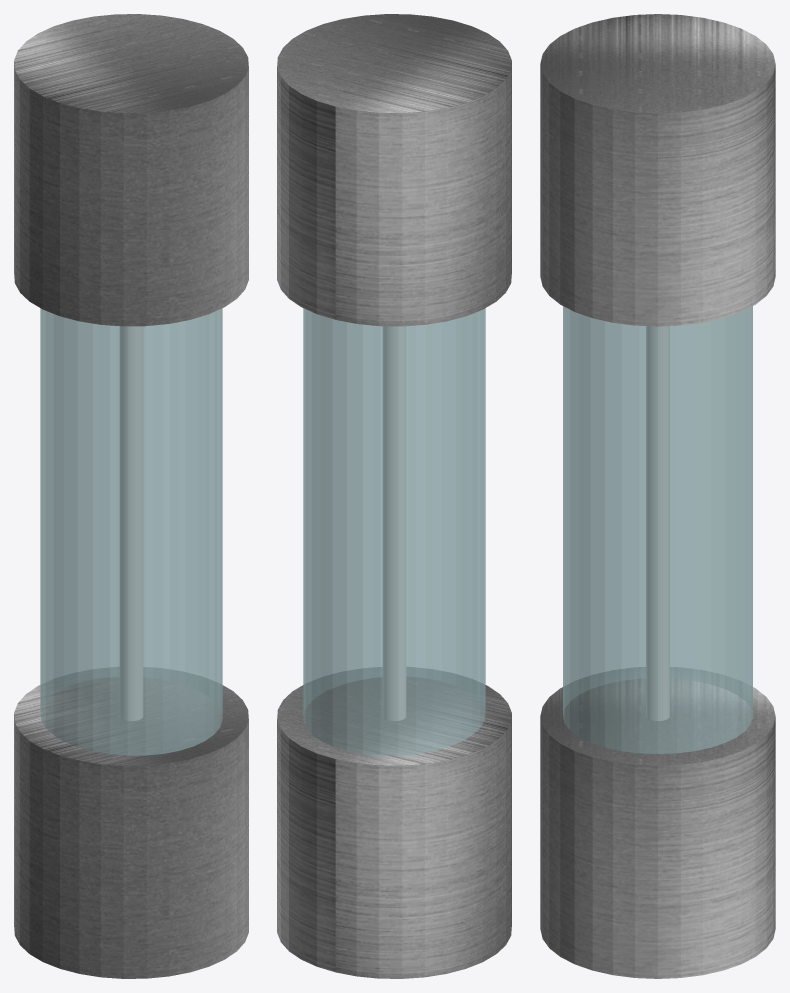
Rendered from predohranitel.fbx.
The picture shows the model from 3 angles, left to right: view 1: azimuth 30°, elevation 25°; view 2: azimuth 150°, elevation 25°; view 3: azimuth 270°, elevation 25°; orthographic projection.
Visible parts, largest first — view 1: Cylinder.002, Cylinder.001, Cylinder, Cylinder.003; view 2: Cylinder.002, Cylinder.001, Cylinder, Cylinder.003; view 3: Cylinder.002, Cylinder.001, Cylinder, Cylinder.003.
Part boxes in pixels (bbox=[...]): Cylinder.002: bbox=[40, 308, 222, 755]; Cylinder.001: bbox=[14, 14, 248, 326]; Cylinder: bbox=[14, 667, 248, 978]; Cylinder.003: bbox=[120, 326, 142, 720]; Cylinder.002: bbox=[303, 308, 485, 755]; Cylinder.001: bbox=[277, 14, 511, 326]; Cylinder: bbox=[277, 667, 511, 978]; Cylinder.003: bbox=[383, 326, 405, 720]; Cylinder.002: bbox=[563, 306, 752, 753]; Cylinder.001: bbox=[540, 14, 775, 326]; Cylinder: bbox=[540, 667, 775, 978]; Cylinder.003: bbox=[646, 326, 669, 720].
Size of the model in its own units: 200 by 812 by 200.
